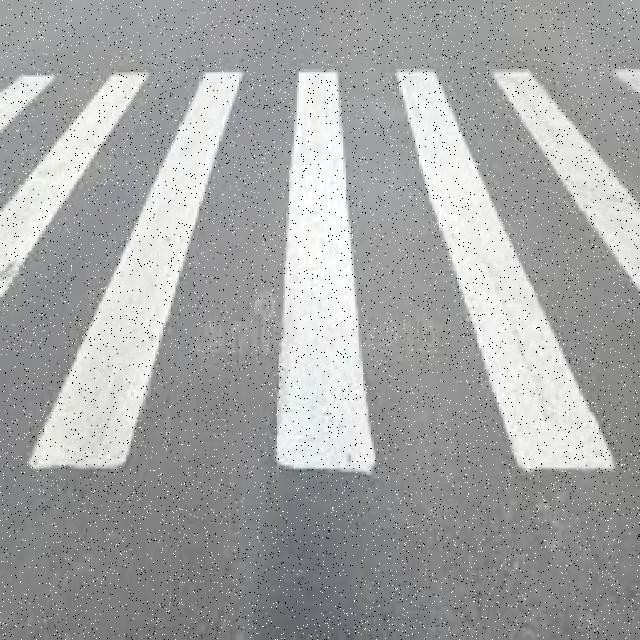Pedestrian crosswalk: (2, 52, 640, 515)
